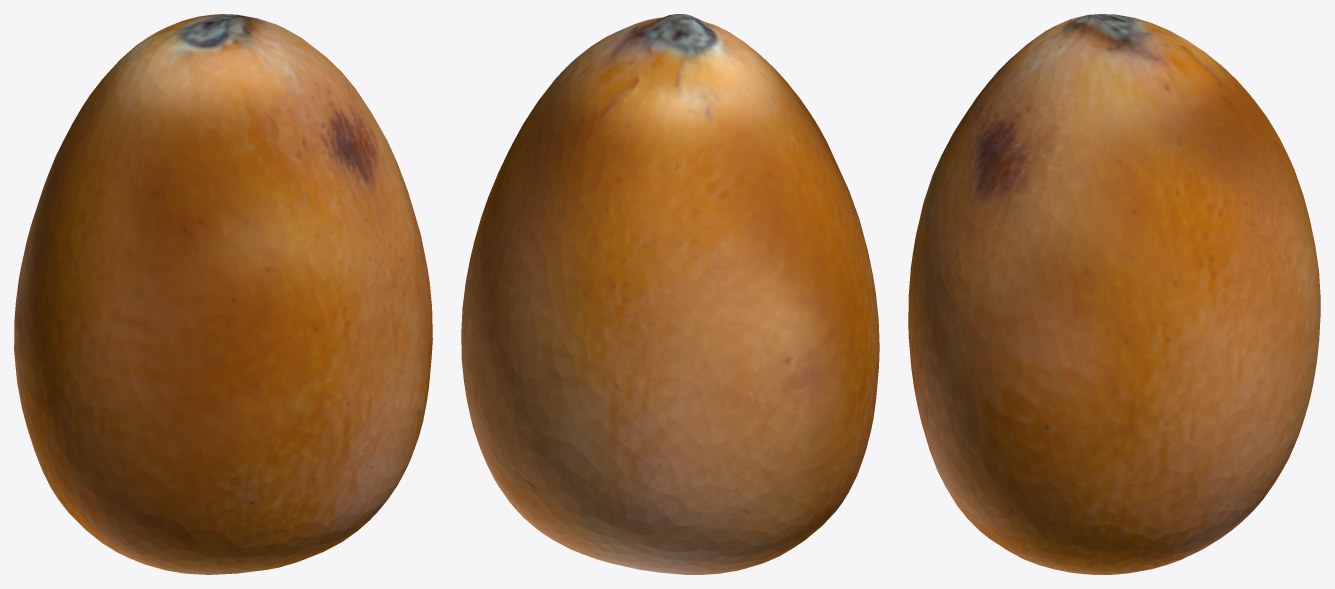
Rendered from loquatNEW.glb.
3 renders of one model, left to right at view 1: azimuth 30°, elevation 25°; view 2: azimuth 150°, elevation 25°; view 3: azimuth 270°, elevation 25°, orthographic.
Visible parts, largest first — view 1: loquatFruit; view 2: loquatFruit; view 3: loquatFruit.
Boxes of the visible parts, <box> form: loquatFruit: <box>14,14,432,574</box>; loquatFruit: <box>461,14,879,574</box>; loquatFruit: <box>908,14,1320,574</box>.
Size of the model in its own units: 0.4674 by 0.6411 by 0.4586.
1 material, 1 textured.
